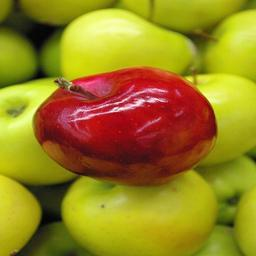apple: (32, 65, 217, 187)
